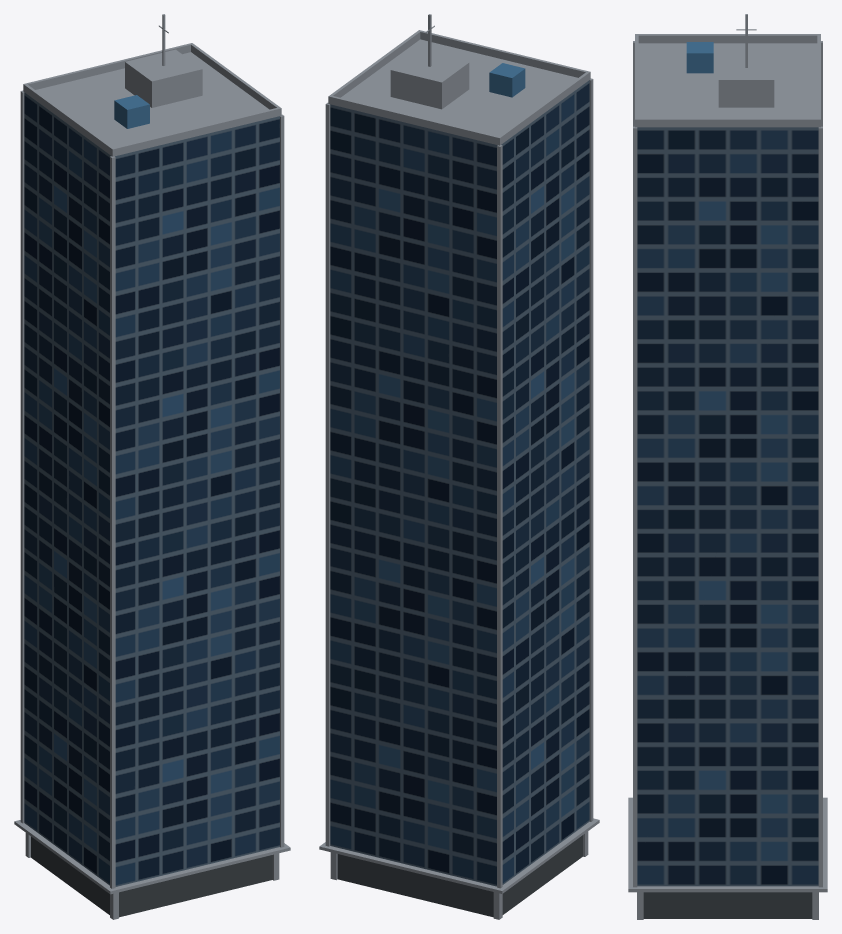
File: predio_3.glb
The picture shows the model from 3 angles, left to right: view 1: azimuth 30°, elevation 25°; view 2: azimuth 150°, elevation 25°; view 3: azimuth 270°, elevation 25°; orthographic projection. The views are drawn at different scales.
Parts seen in each view (by area): view 1: fachada, con, ter, cx; view 2: fachada, con, ter, cx; view 3: fachada, con, ter, cx.
Part boxes in pixels (<box>): fachada: <box>24,92,279,886</box>; con: <box>14,14,290,919</box>; ter: <box>31,836,272,917</box>; cx: <box>114,95,149,128</box>; fachada: <box>330,80,589,886</box>; con: <box>319,14,599,919</box>; ter: <box>337,835,582,917</box>; cx: <box>489,63,525,97</box>; fachada: <box>637,127,818,886</box>; con: <box>628,14,827,919</box>; ter: <box>643,892,812,918</box>; cx: <box>686,42,713,73</box>.
Bounding box in the file's own units: 25.6 × 114 × 23.6.
Materials: 4 (1 with a texture image).
